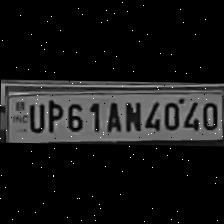0: (159, 96, 179, 130), (198, 97, 218, 128)
1: (84, 98, 103, 131)
4: (179, 96, 199, 130), (141, 97, 161, 130)
6: (62, 98, 84, 132)
A: (101, 97, 123, 131)
N: (120, 96, 142, 130)
P: (43, 97, 62, 132)
U: (23, 99, 44, 132)
